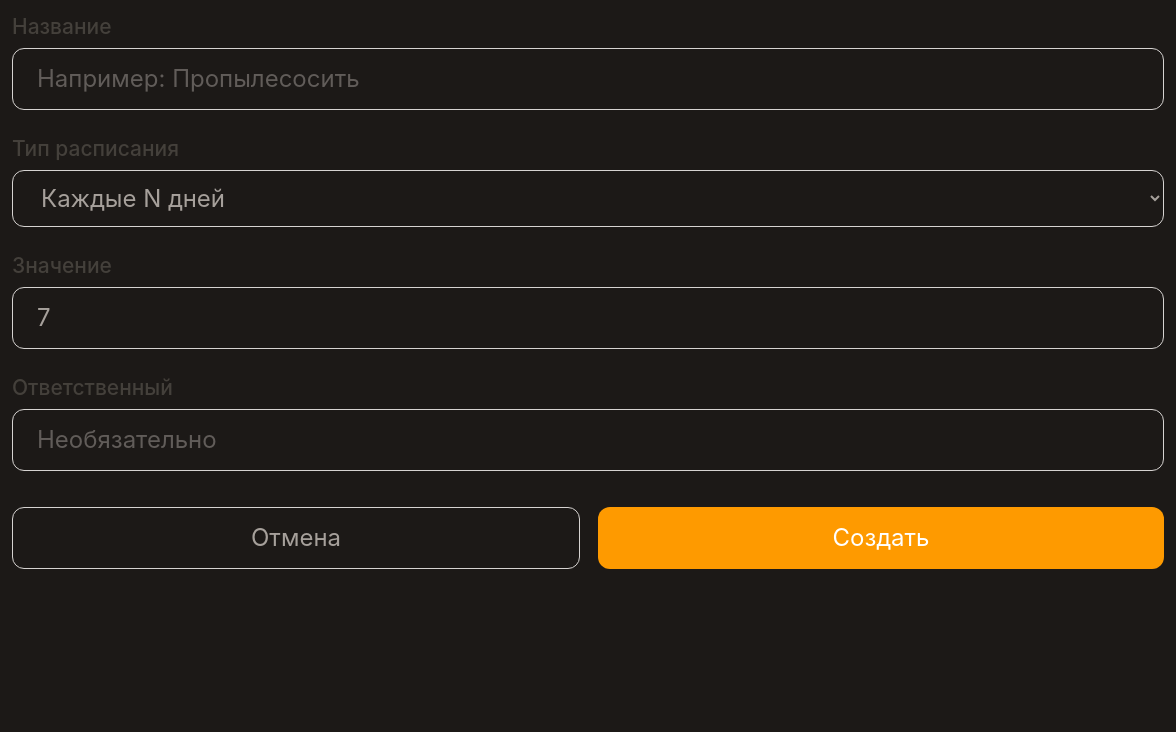
it: ChoreForm › validates required name field
The width and height of the screenshot is (1176, 732).
Clear the field labelled "Название". click: {"x": 588, "y": 79}
box: [12, 48, 1164, 110]
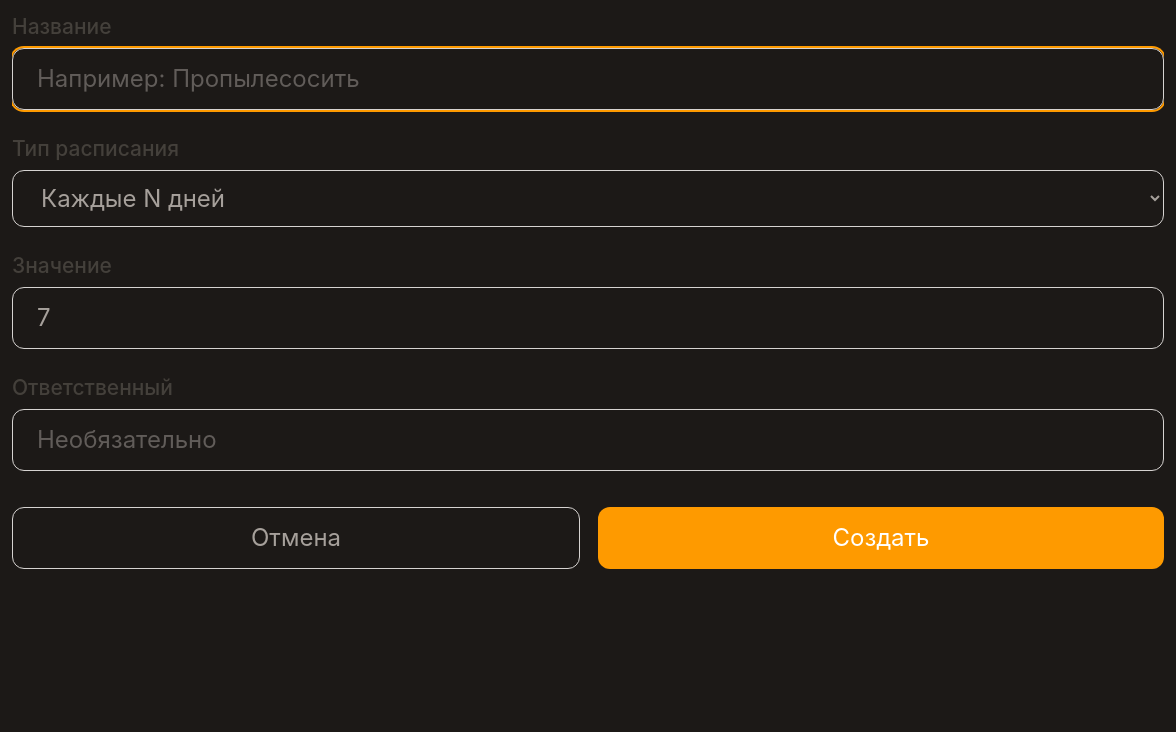
Click the button "Создать". click: {"x": 881, "y": 538}
box: [598, 507, 1164, 569]
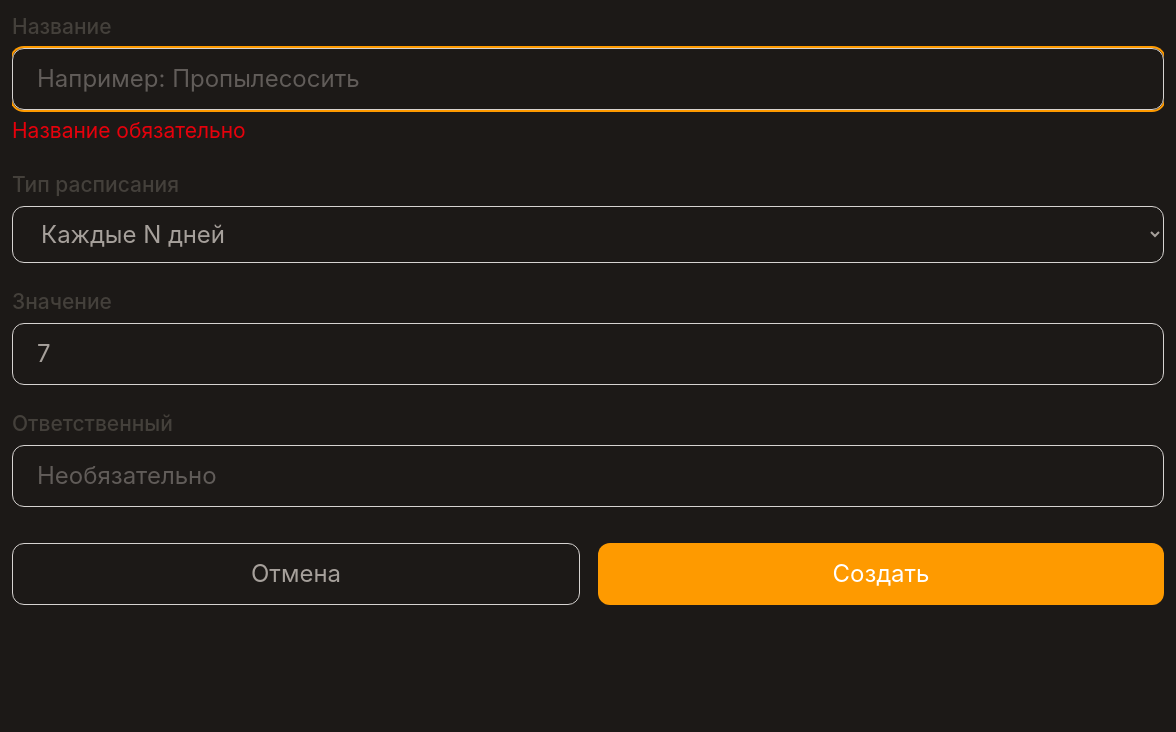
Now the text "Название обязательно" is shown, box [12, 118, 246, 143]
